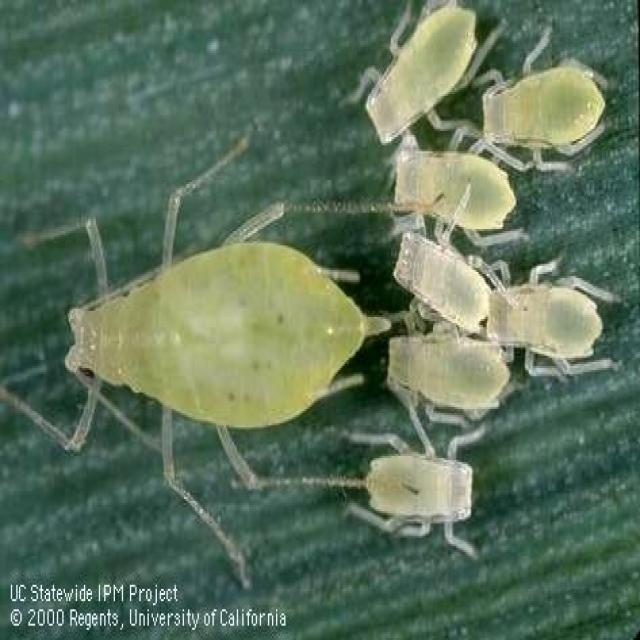Aphid-Grown-: (42, 181, 381, 510), (346, 395, 501, 562), (344, 6, 504, 156), (383, 122, 535, 258), (385, 314, 529, 456), (388, 204, 511, 352), (477, 48, 612, 176), (490, 261, 607, 376)
